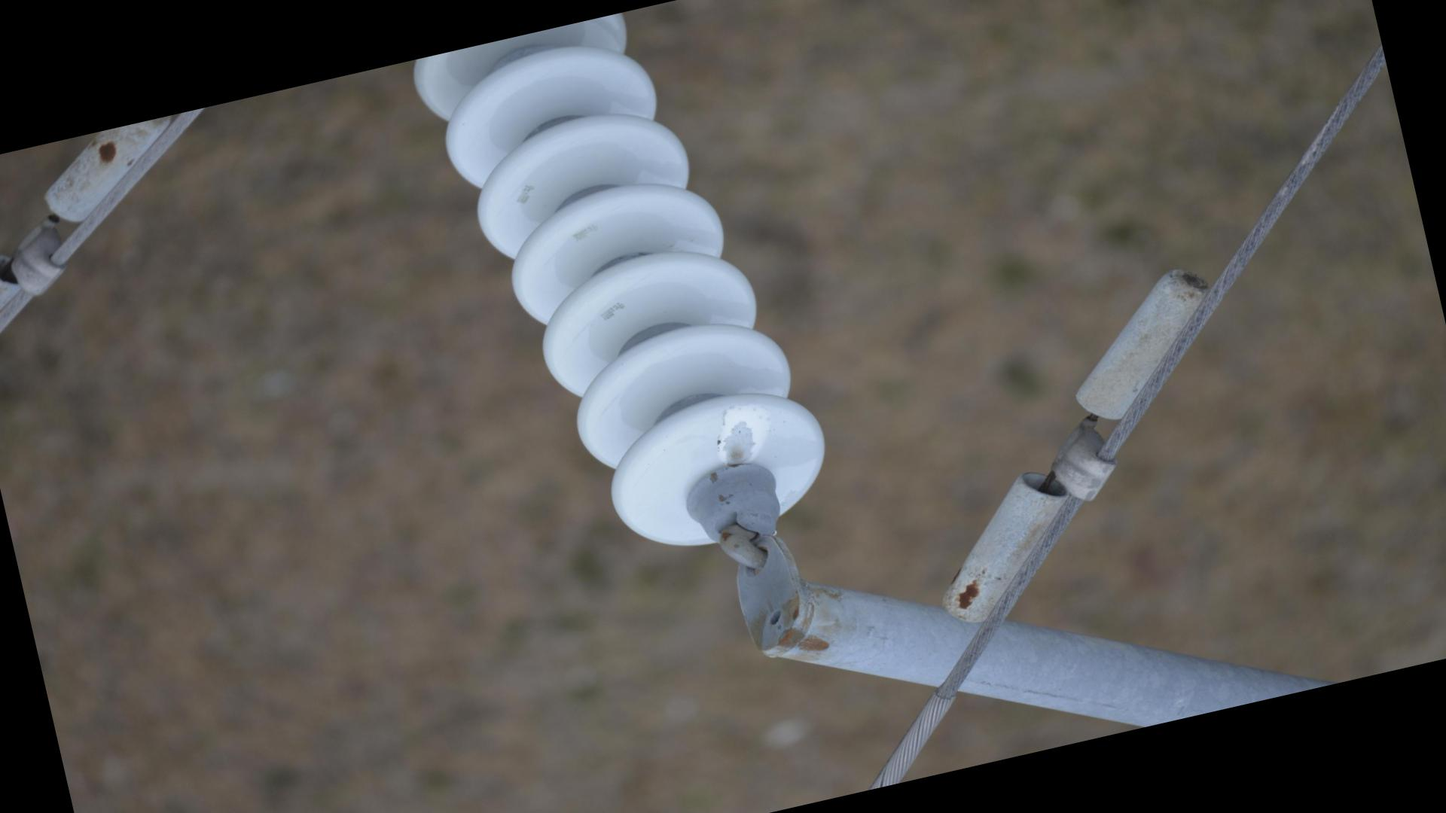damper: (872, 251, 1286, 638), (1, 84, 221, 393)
